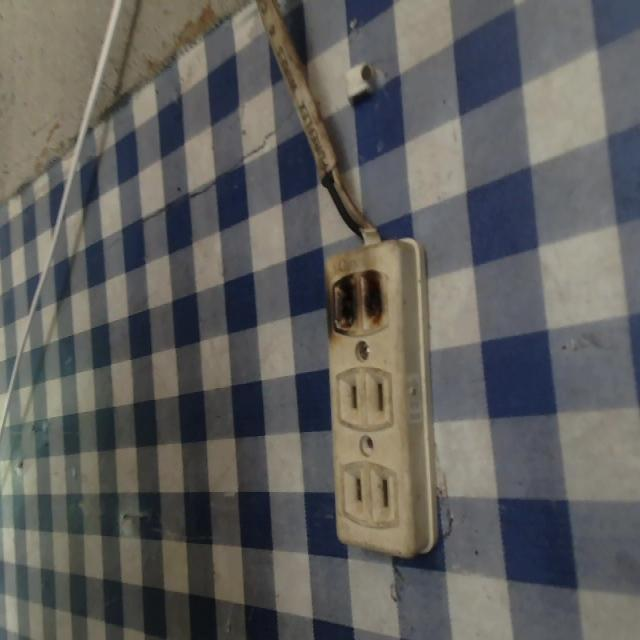-: (321, 268, 395, 328)
